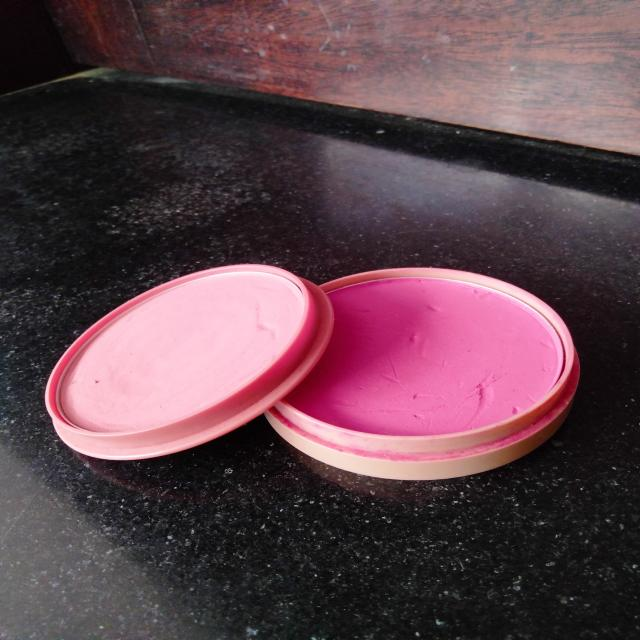blush: (35, 191, 621, 512)
